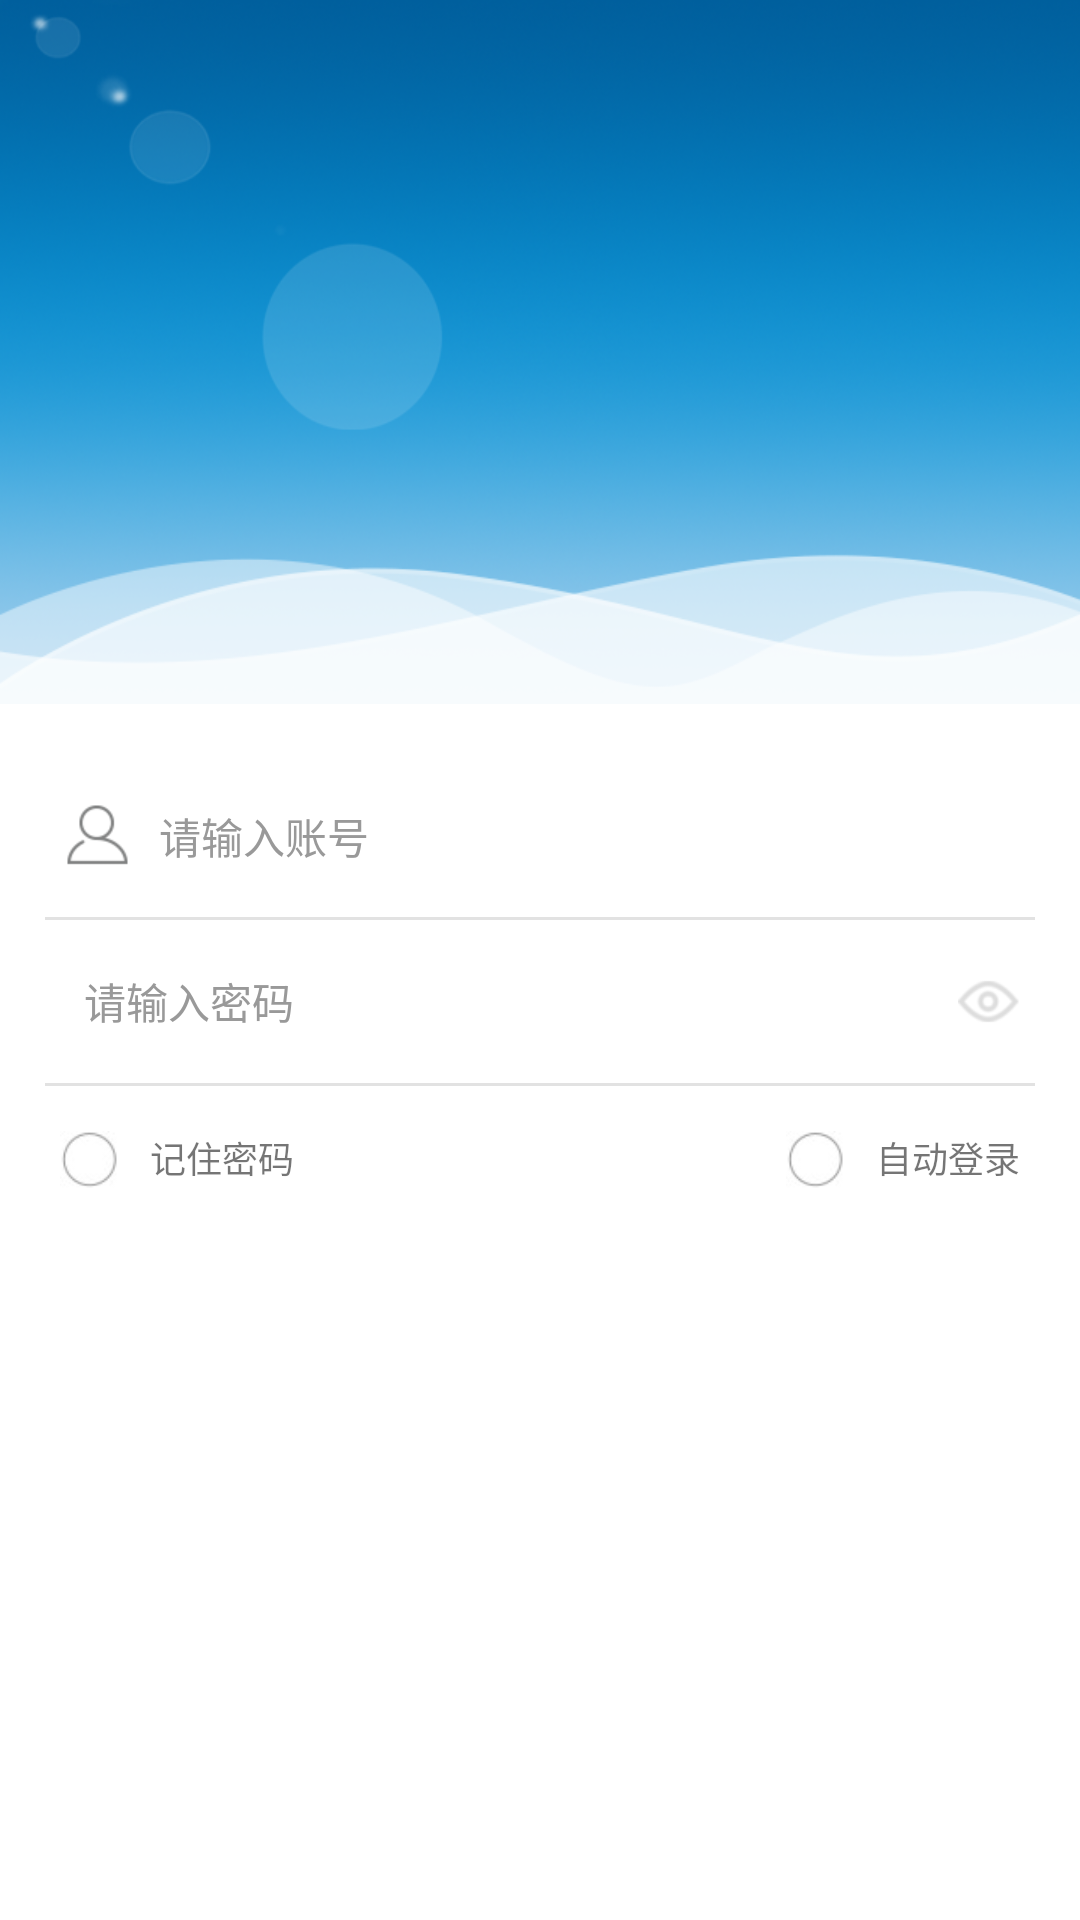

Point at icon controls on the screen. Image size 1080 × 1920, points as (x,y).
account: (97,834)
visible: (988,1001)
